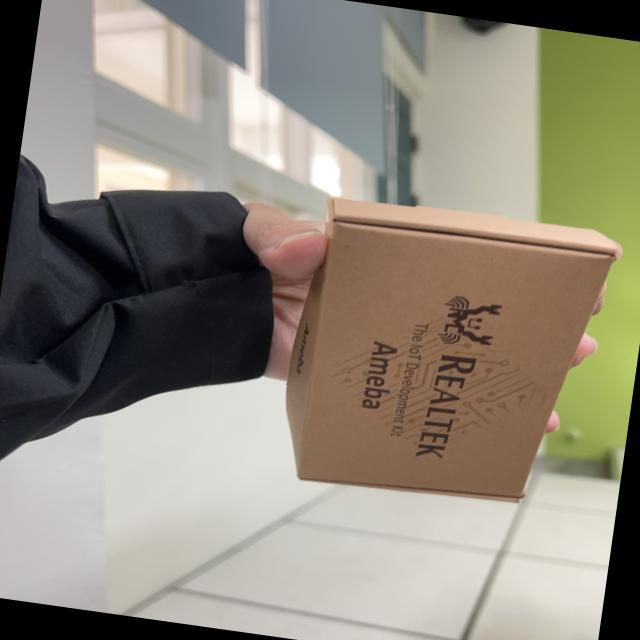box: (260, 164, 602, 529)
